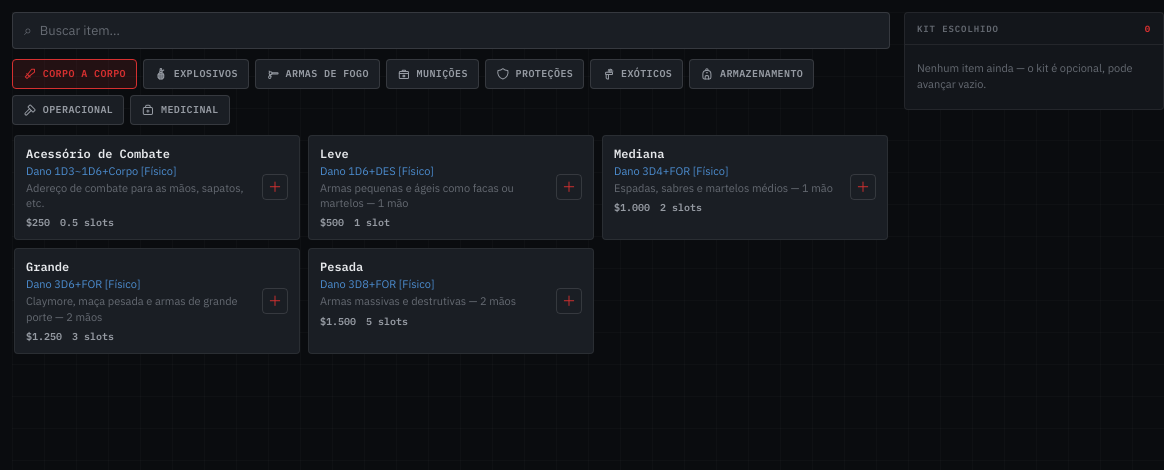
GuiaEquipamentoLoja › veto novo remove itens da categoria que estava ativa, mesmo sem busca
Click the tab with class "loja__categoria" showing "Proteções" at {"x": 534, "y": 74}, box x1=485 y1=59 x2=584 y2=89
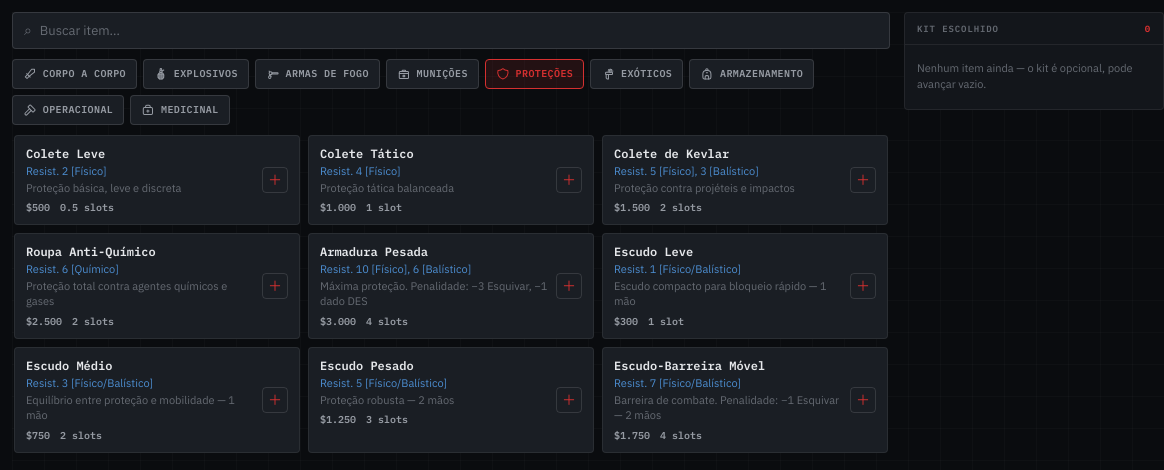
Result: the text "Colete Leve" is shown at x1=26 y1=146 x2=105 y2=161
